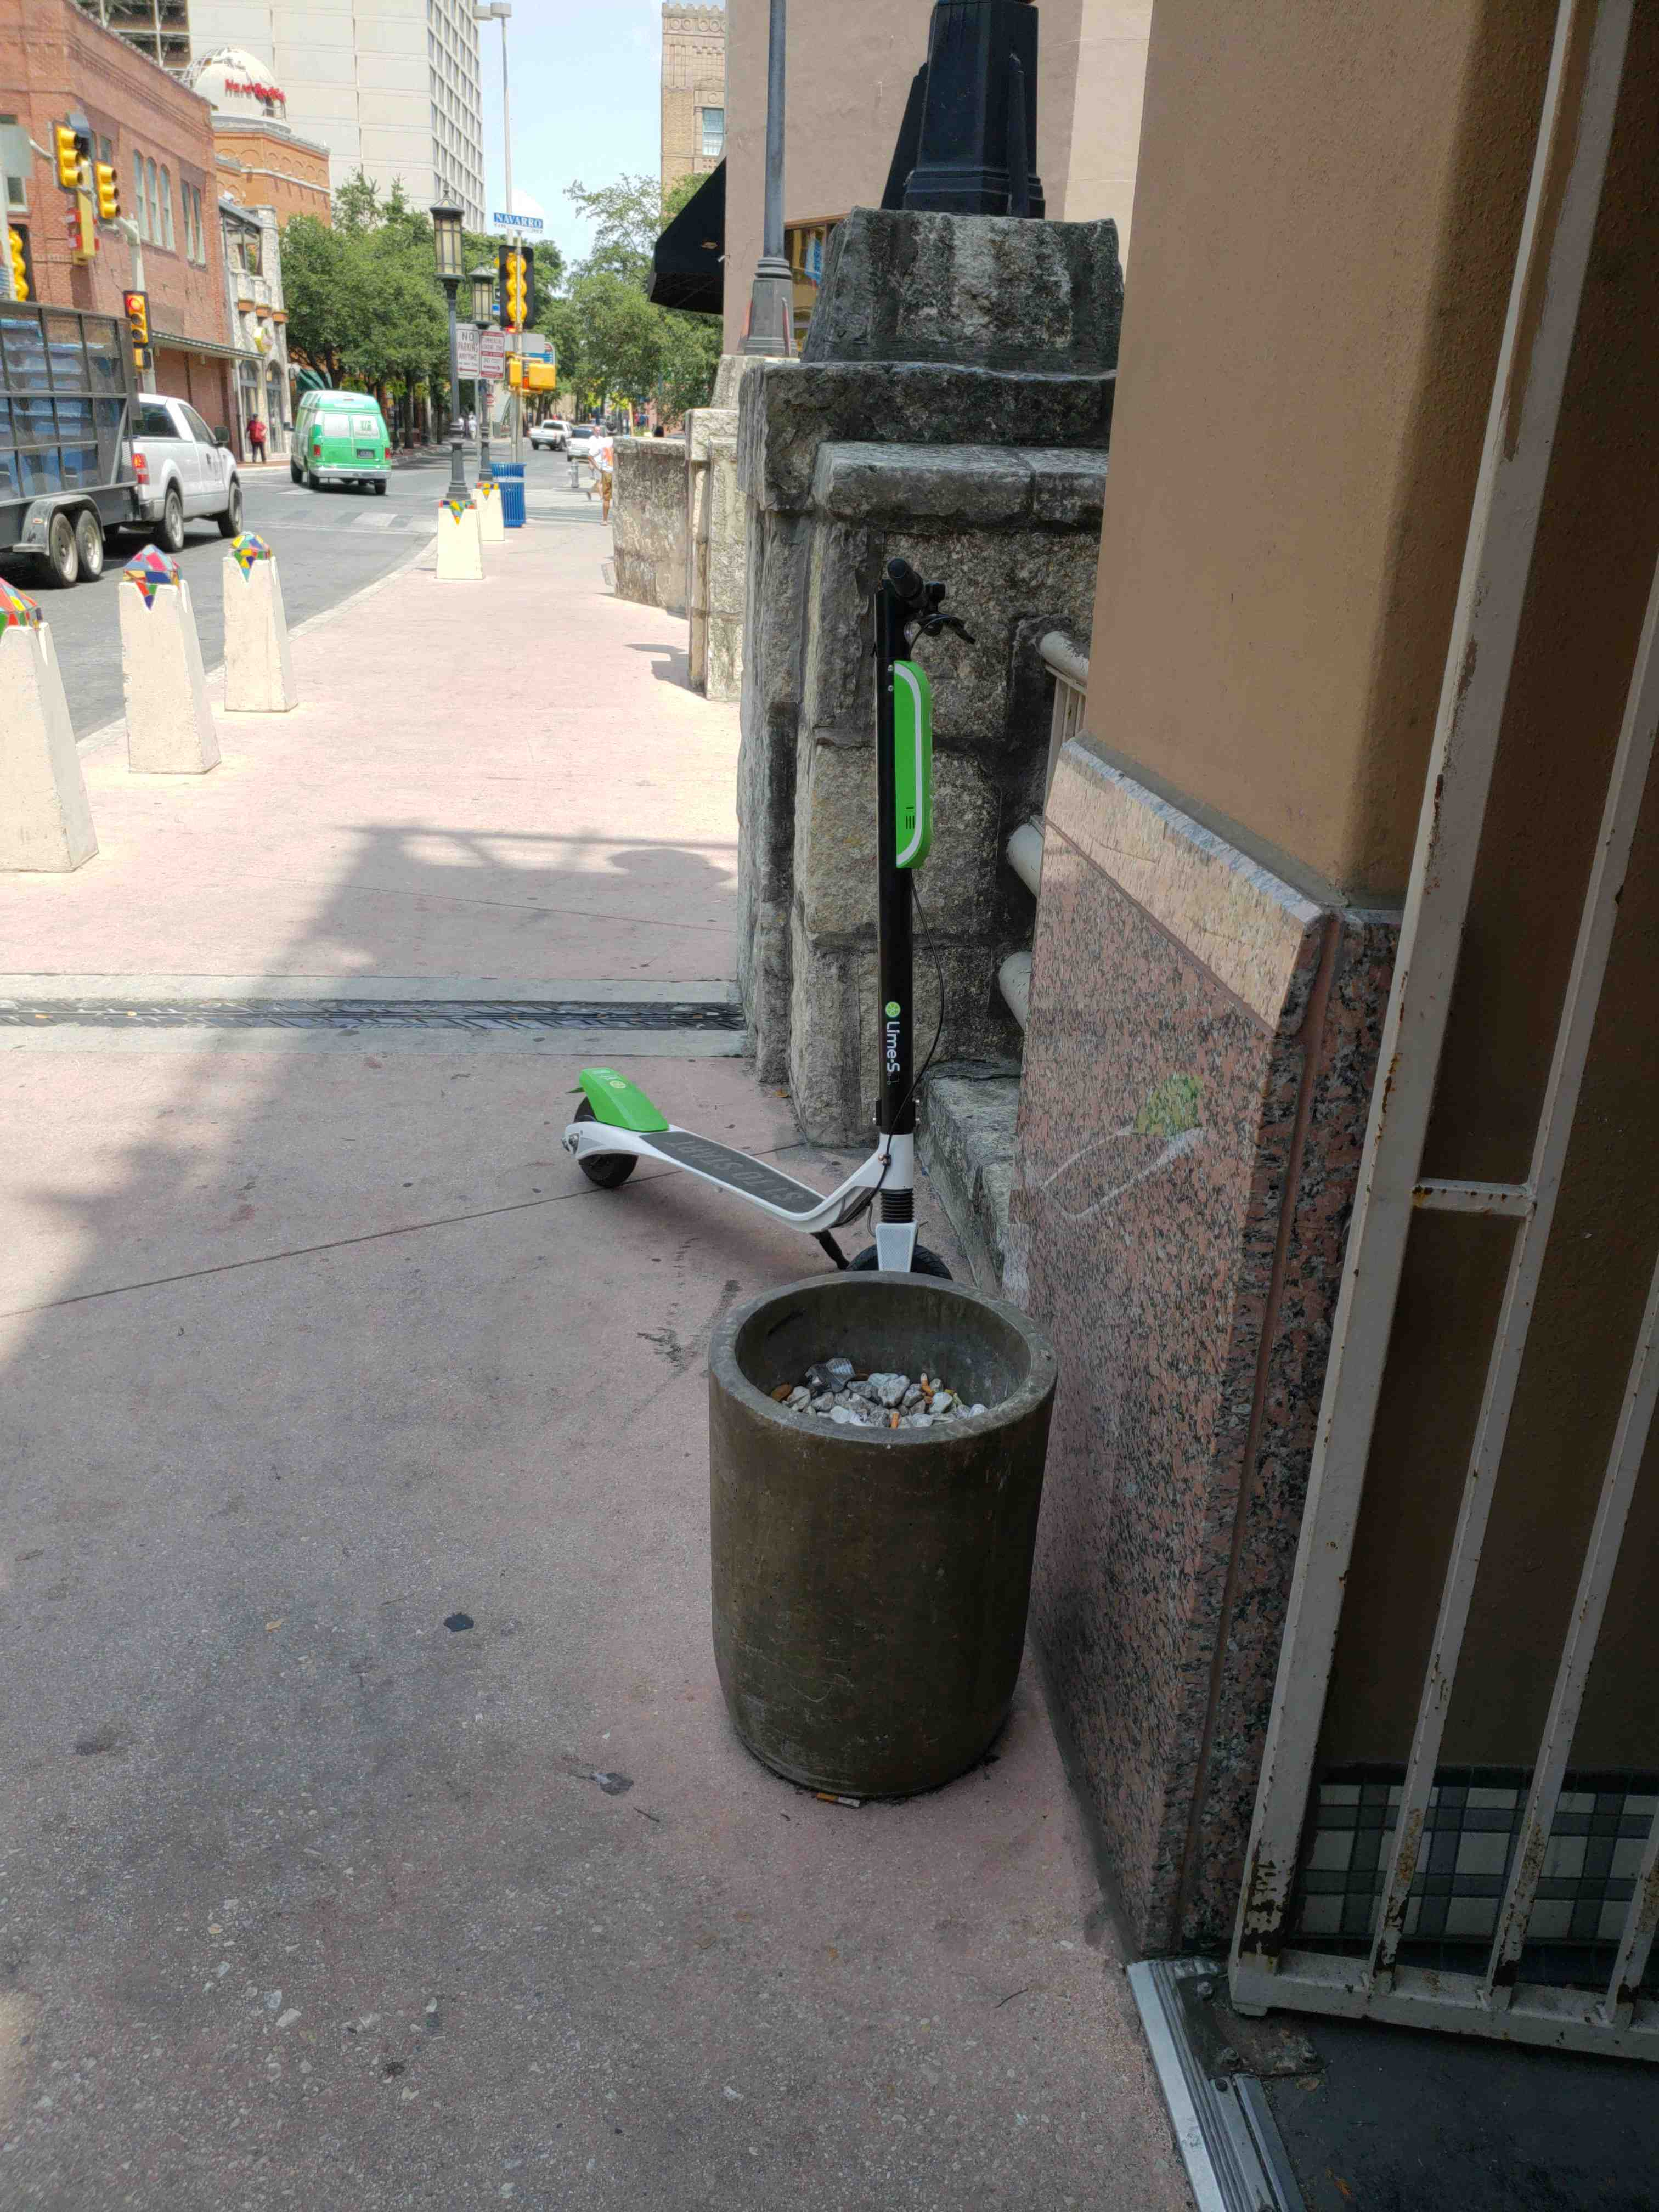scooter: (566, 570, 1047, 1278)
